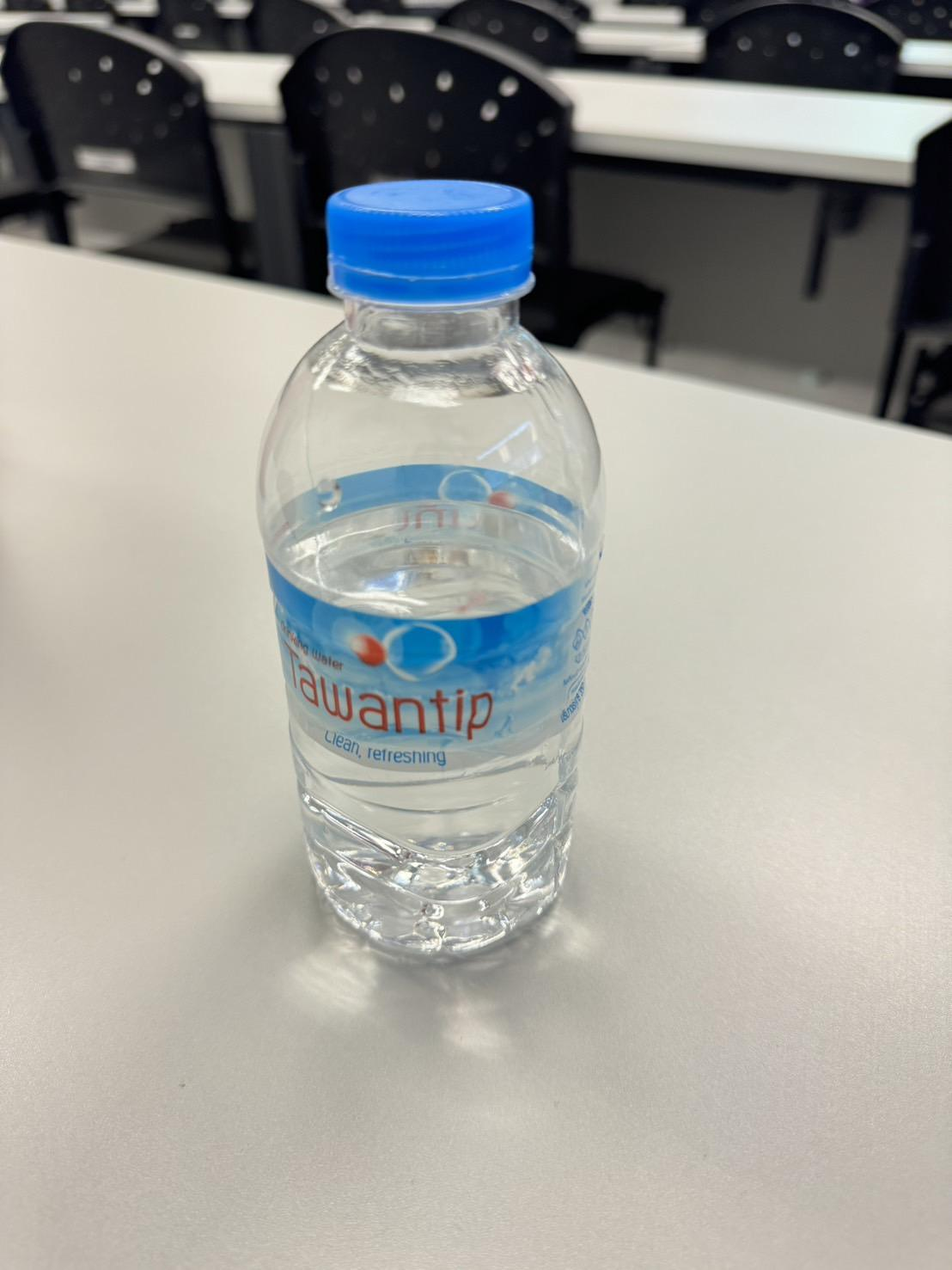Bottle: (257, 178, 603, 956)
